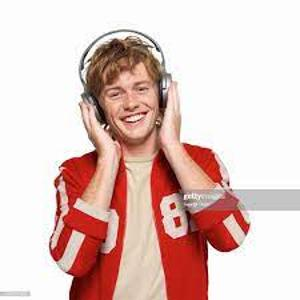Headphones: (77, 26, 174, 124)
